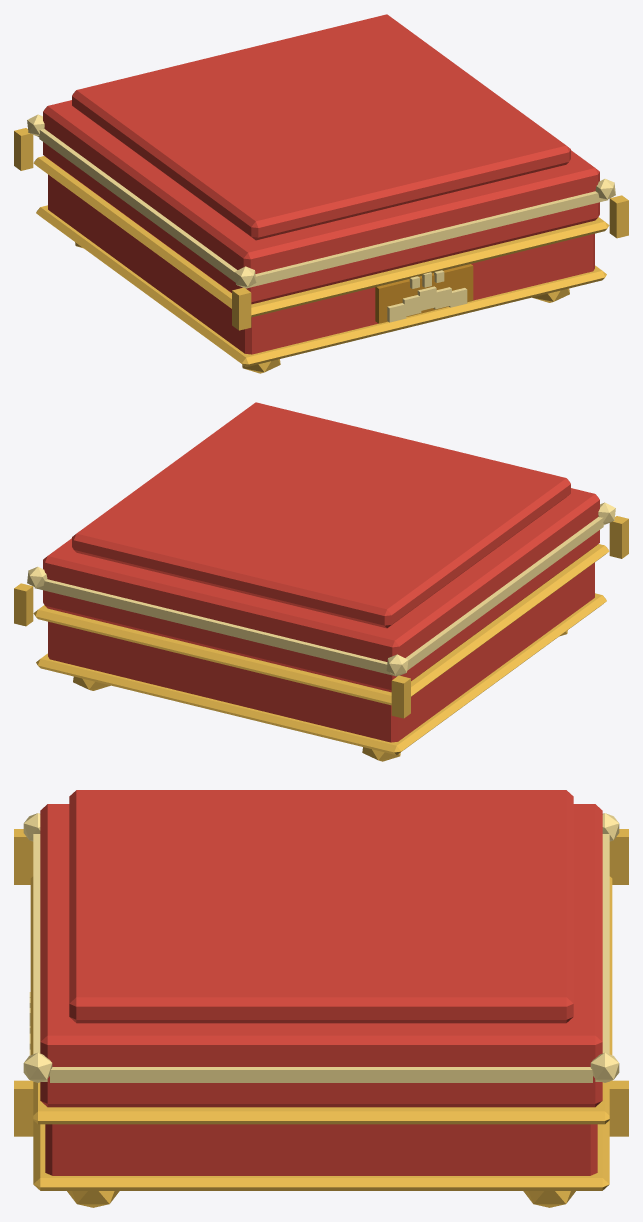
Rendered from CatCafe_Furniture_KingCushion.glb.
3 renders of one model, top to bottom at view 1: azimuth 30°, elevation 25°; view 2: azimuth 150°, elevation 25°; view 3: azimuth 270°, elevation 25°, orthographic. The views are drawn at different scales.
Visible parts, largest first — view 1: CatCafe_Furniture_KingCushion; view 2: CatCafe_Furniture_KingCushion; view 3: CatCafe_Furniture_KingCushion.
Part boxes in pixels (x1,y1,x2,y2): CatCafe_Furniture_KingCushion: (14,14,628,373); CatCafe_Furniture_KingCushion: (14,402,628,761); CatCafe_Furniture_KingCushion: (14,790,628,1207).
Bounding box in the file's own units: 2.56 × 1 × 2.56.
Materials: 1 (1 with a texture image).
